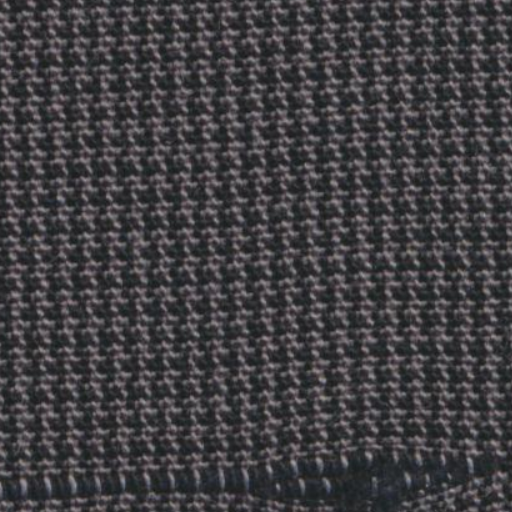DaiSha: (16, 439, 500, 507)
